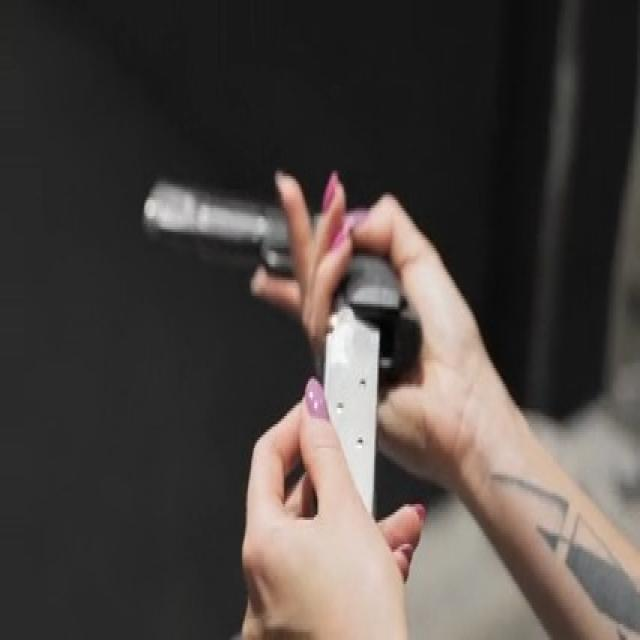Gun_Holder: (133, 161, 438, 549)
